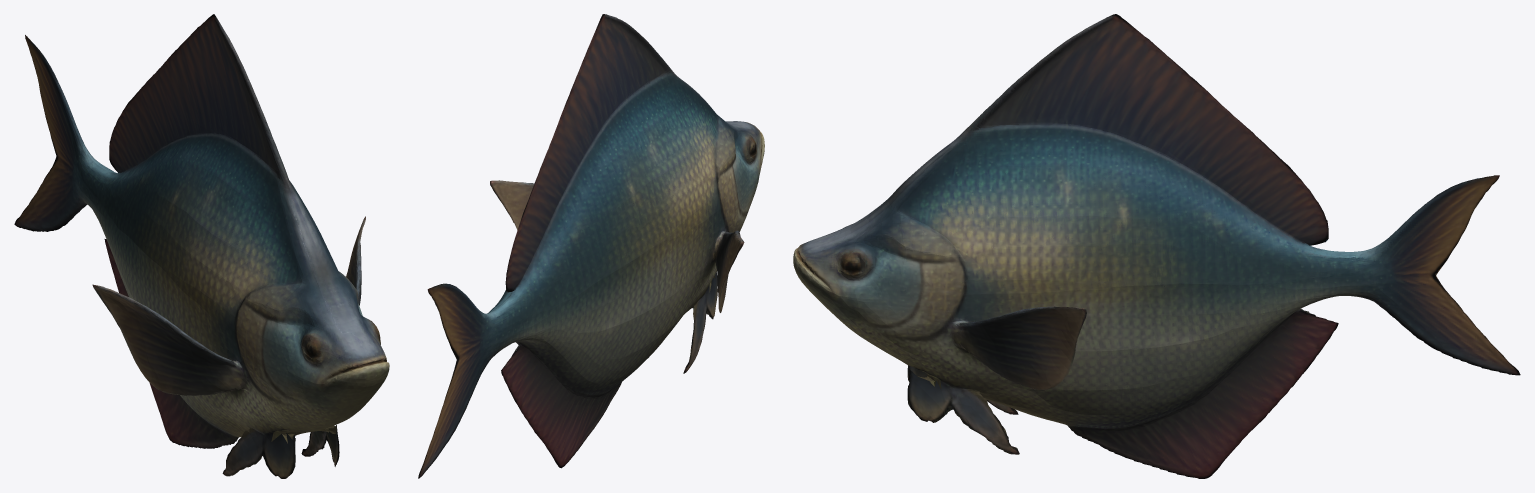
3 views of the same model, side by side, from view 1: azimuth 30°, elevation 25°; view 2: azimuth 150°, elevation 25°; view 3: azimuth 270°, elevation 25° (orthographic). The views are drawn at different scales.
Parts seen in each view (by area): view 1: world; view 2: world; view 3: world.
Boxes of the visible parts, x1,y1,x2,y2 form: world: [14, 14, 389, 478]; world: [418, 14, 764, 478]; world: [793, 14, 1520, 478].
Size of the model in its own units: 0.4398 by 0.7042 by 0.9984.
2 materials, 2 textured.
